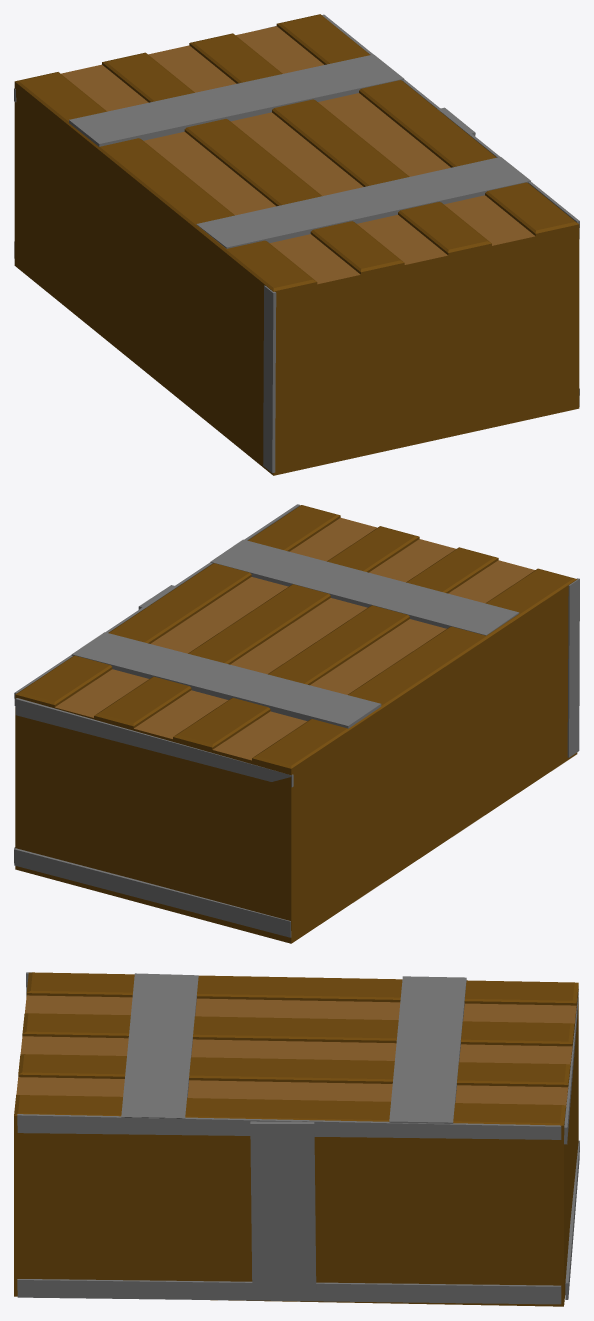
Rendered from woodbox.glb.
The picture shows the model from 3 angles, top to bottom: view 1: azimuth 30°, elevation 25°; view 2: azimuth 150°, elevation 25°; view 3: azimuth 270°, elevation 25°; orthographic projection. The views are drawn at different scales.
Parts seen in each view (by area): view 1: Cube.393, Cube.395, Cube.394, Cube.400, Cube.396; view 2: Cube.393, Cube.395, Cube.394, Cube.406, Cube.407, Cube.400, Cube.396; view 3: Cube.393, Cube.412, Cube.395, Cube.397, Cube.394, Cube.396, Cube.406, Cube.407.
Boxes of the visible parts, box(x1,y1,x2,y2) form: Cube.393: box(14, 14, 579, 475); Cube.395: box(69, 54, 404, 146); Cube.394: box(196, 157, 530, 248); Cube.400: box(263, 285, 276, 472); Cube.396: box(322, 14, 579, 238); Cube.393: box(15, 505, 577, 943); Cube.395: box(71, 632, 381, 728); Cube.394: box(210, 539, 519, 635); Cube.406: box(14, 848, 291, 937); Cube.407: box(15, 698, 293, 787); Cube.400: box(567, 578, 579, 757); Cube.396: box(14, 504, 299, 705); Cube.393: box(14, 972, 578, 1306); Cube.412: box(250, 1121, 316, 1299); Cube.395: box(389, 976, 466, 1123); Cube.397: box(17, 1279, 561, 1304); Cube.394: box(121, 973, 198, 1118); Cube.396: box(17, 1114, 561, 1139); Cube.406: box(565, 1140, 579, 1299); Cube.407: box(564, 992, 578, 1144).
Bounding box in the file's own units: 1.15 × 0.6418 × 1.78.
